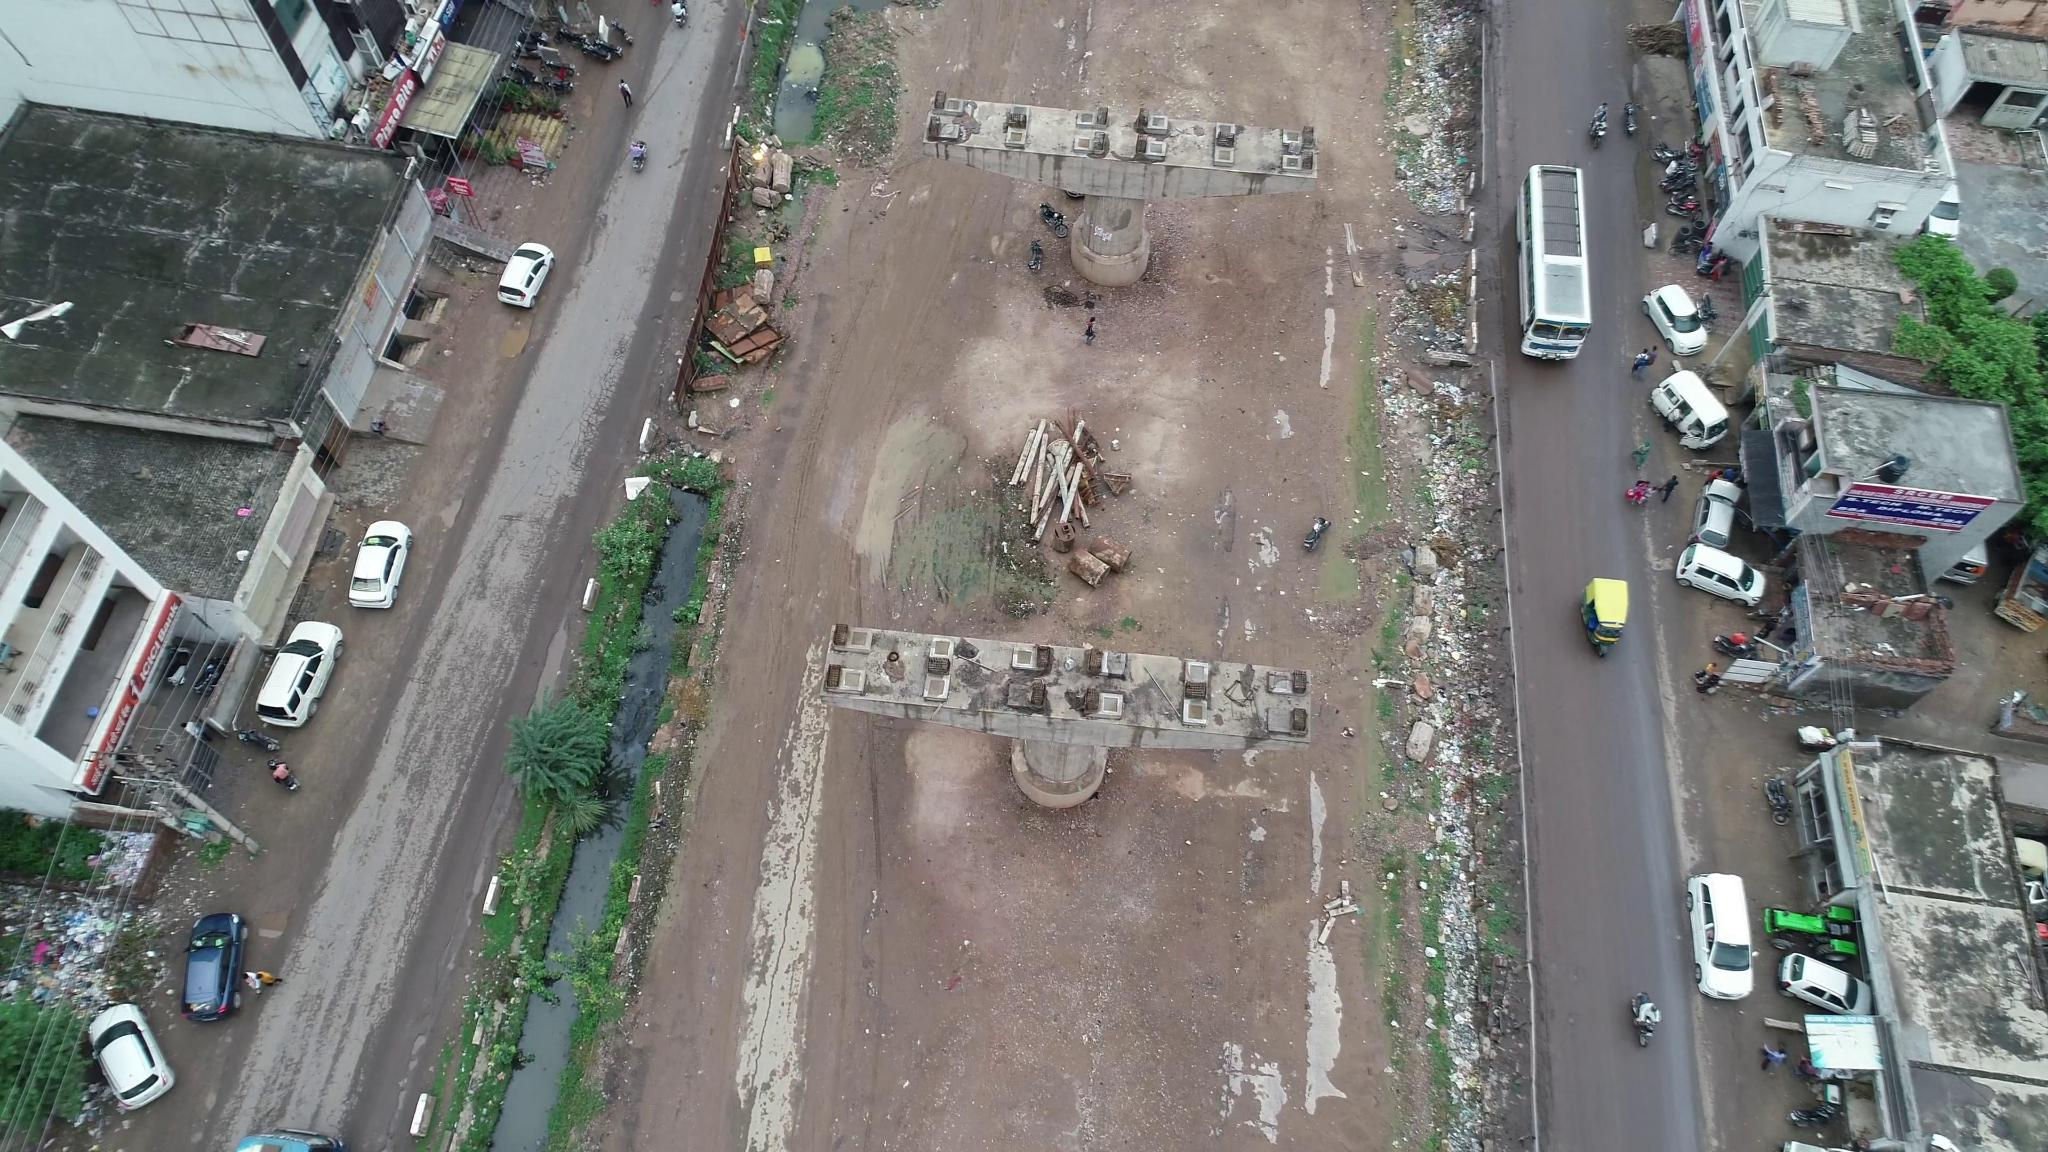Cracks: (558, 342, 632, 485)
